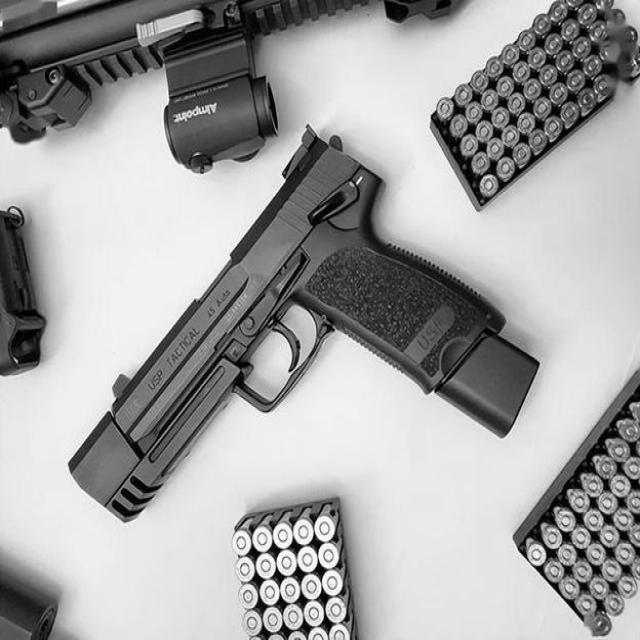gun: (67, 122, 540, 522), (0, 0, 466, 173)
